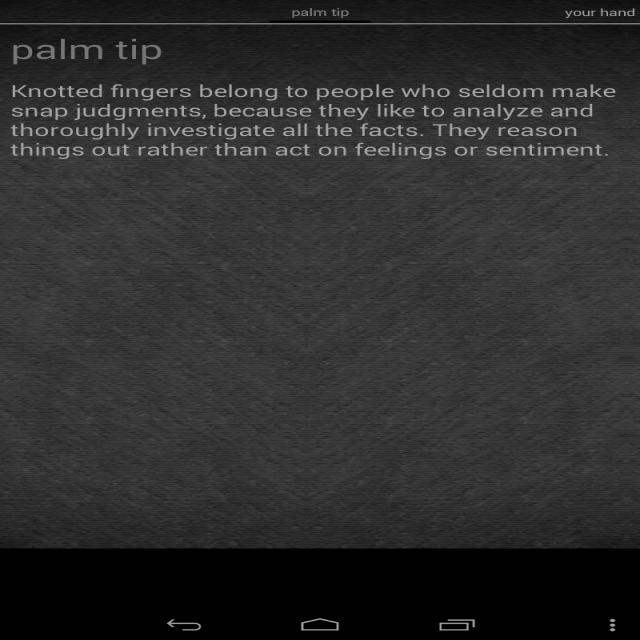TextView: (12, 84, 628, 164), (7, 29, 166, 69), (563, 0, 629, 22), (285, 4, 357, 20)
